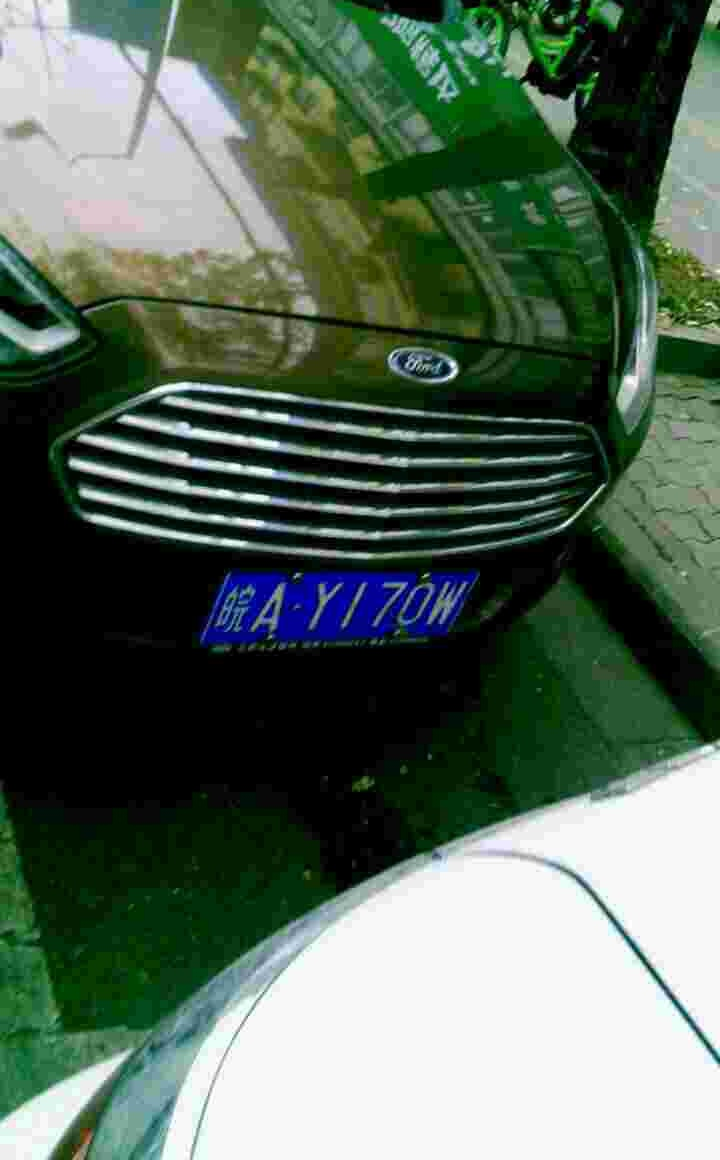license_plate: (203, 565, 494, 658)
